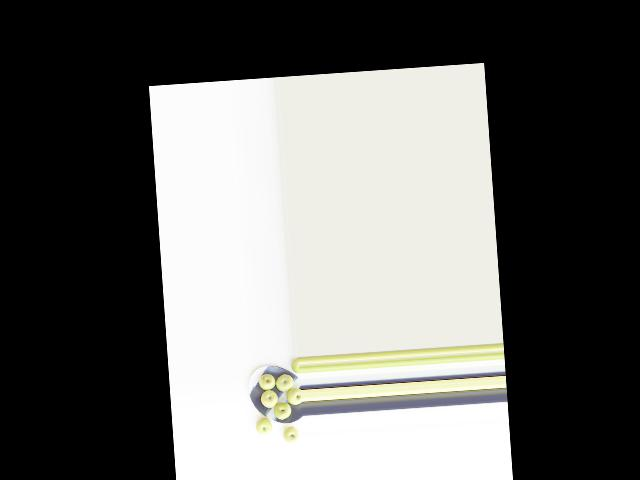apple: (256, 373, 276, 391)
